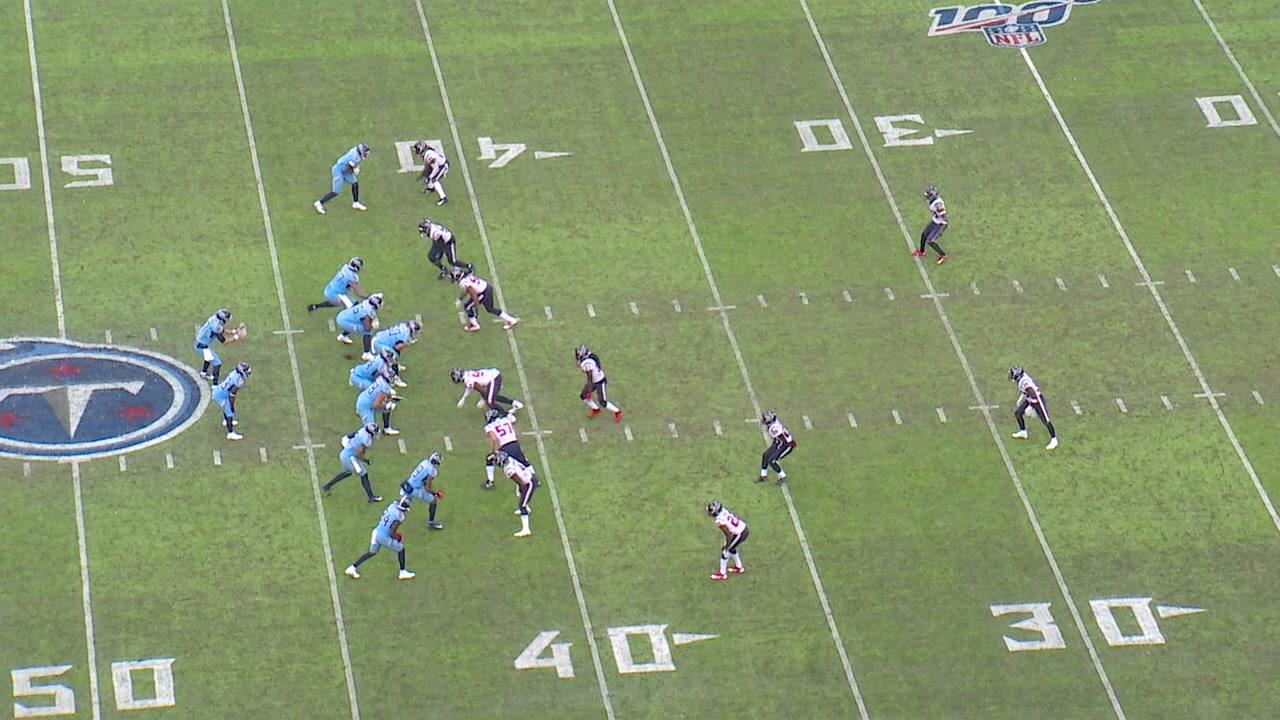player: (341, 492, 418, 583), (442, 266, 524, 334), (320, 419, 384, 505), (477, 407, 542, 489), (1004, 367, 1063, 454), (315, 139, 378, 219), (191, 309, 247, 392), (571, 343, 627, 424), (698, 501, 753, 583), (493, 450, 542, 541), (305, 254, 373, 319), (396, 446, 446, 533), (208, 359, 257, 444), (370, 314, 422, 391), (415, 217, 475, 280), (908, 184, 952, 268), (333, 293, 384, 363), (751, 411, 799, 485), (412, 140, 461, 210), (452, 369, 521, 413), (357, 377, 400, 439), (348, 348, 399, 392)
